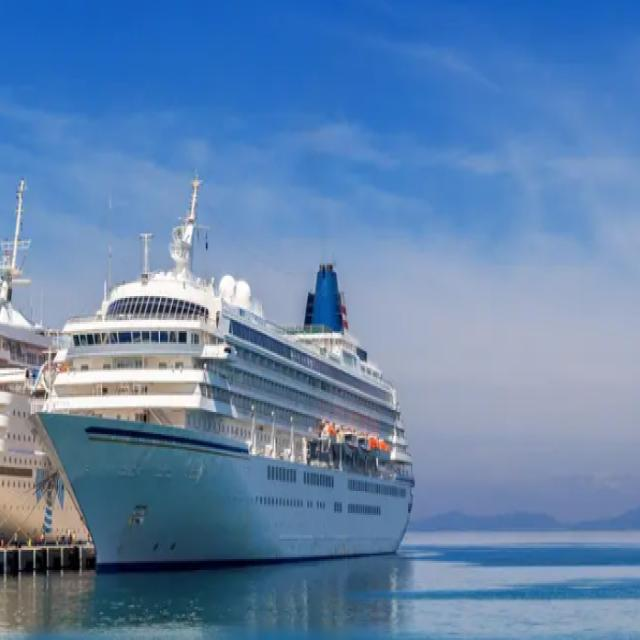passenger ship: (44, 179, 421, 570)
